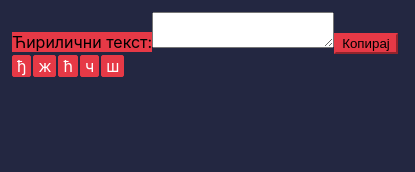
Test: Cyrillic › Letter Insertion › should insert a letter at the current cursor position
The image size is (415, 172).
Type "тест" into the text box named "cyrillic text input" at [243, 30], box [152,12,334,48]
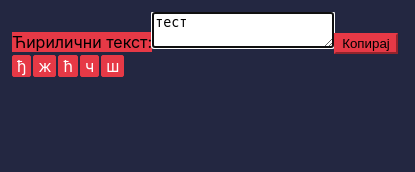
Click the button named "Insert Cyrillic letter ђ" at [22, 66], box [12,55,32,77]
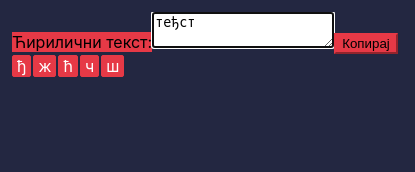
Result: the text box named "cyrillic text input" holds "теђст" at [152,12,334,48]
